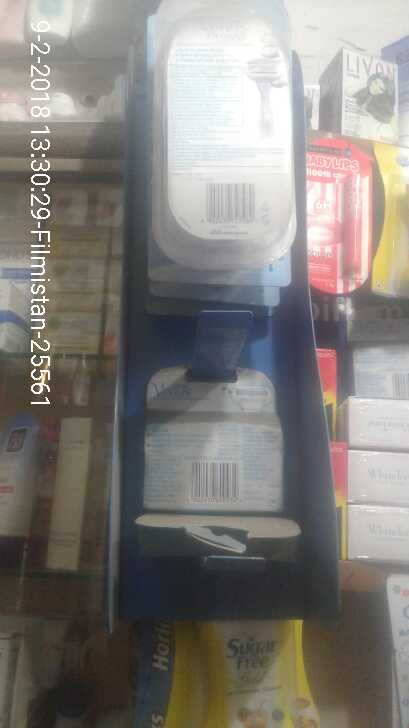reject: (115, 200, 321, 317)
